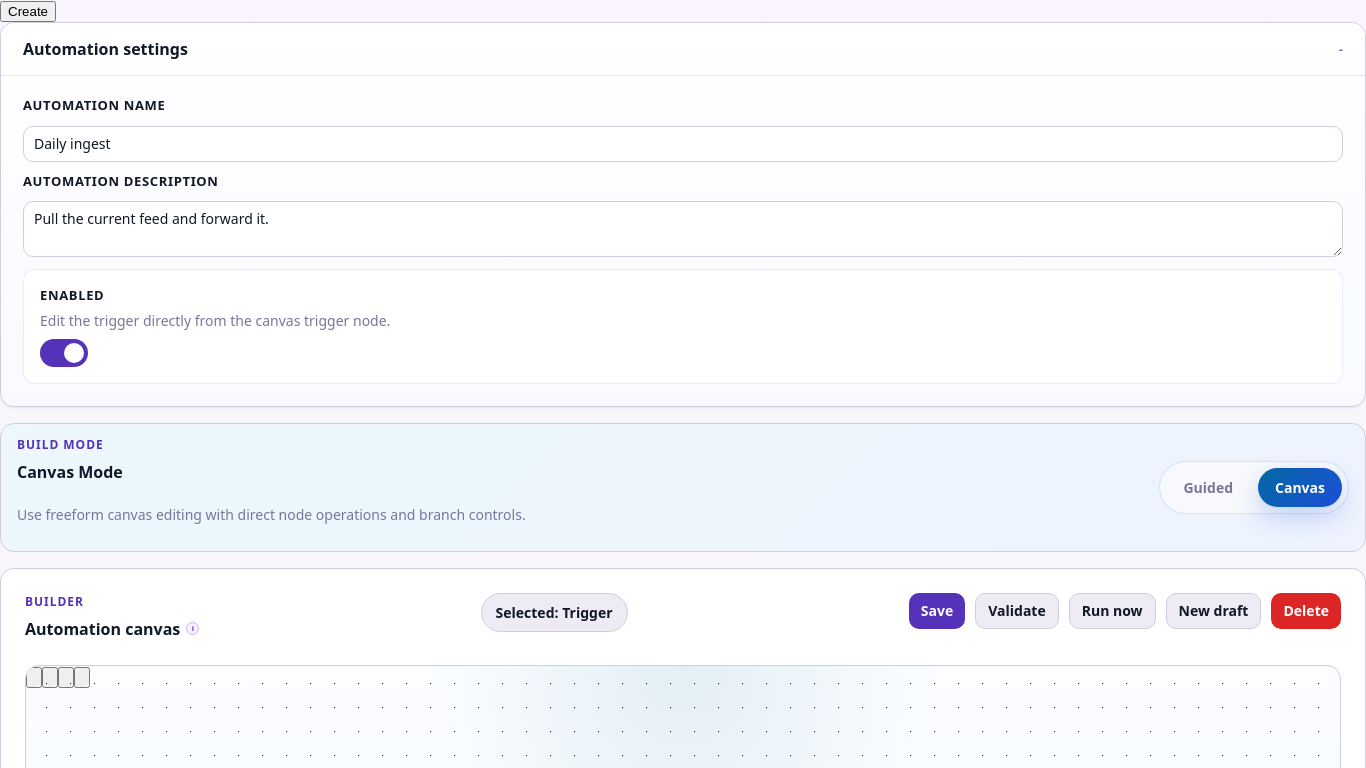
Test case: AutomationApp › collapses and expands the workflow settings bar
This screenshot has width=1366, height=768.
Expected: the field showing "Daily ingest" is shown, [23, 126, 1343, 162]
Expected: the text with id "automations-workflow-bar-collapse-symbol" reads "-", [1339, 40, 1343, 58]
Click the button with id "automations-workflow-bar-collapse-toggle".
click(105, 49)  # box [1, 23, 1365, 76]
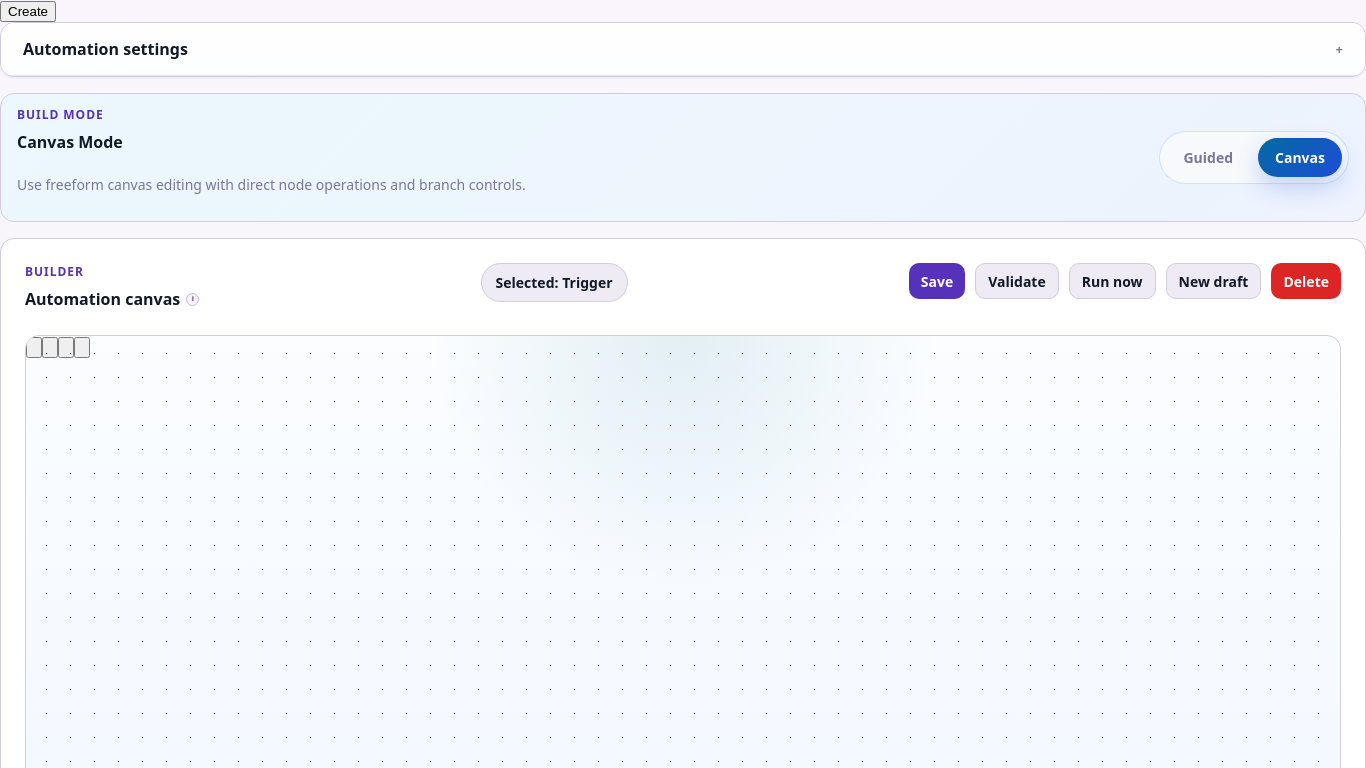
Expected: the text with id "automations-workflow-bar-collapse-symbol" reads "+", [1336, 40, 1343, 58]
Click the button with id "automations-workflow-bar-collapse-toggle".
click(105, 49)  # box [1, 23, 1365, 76]
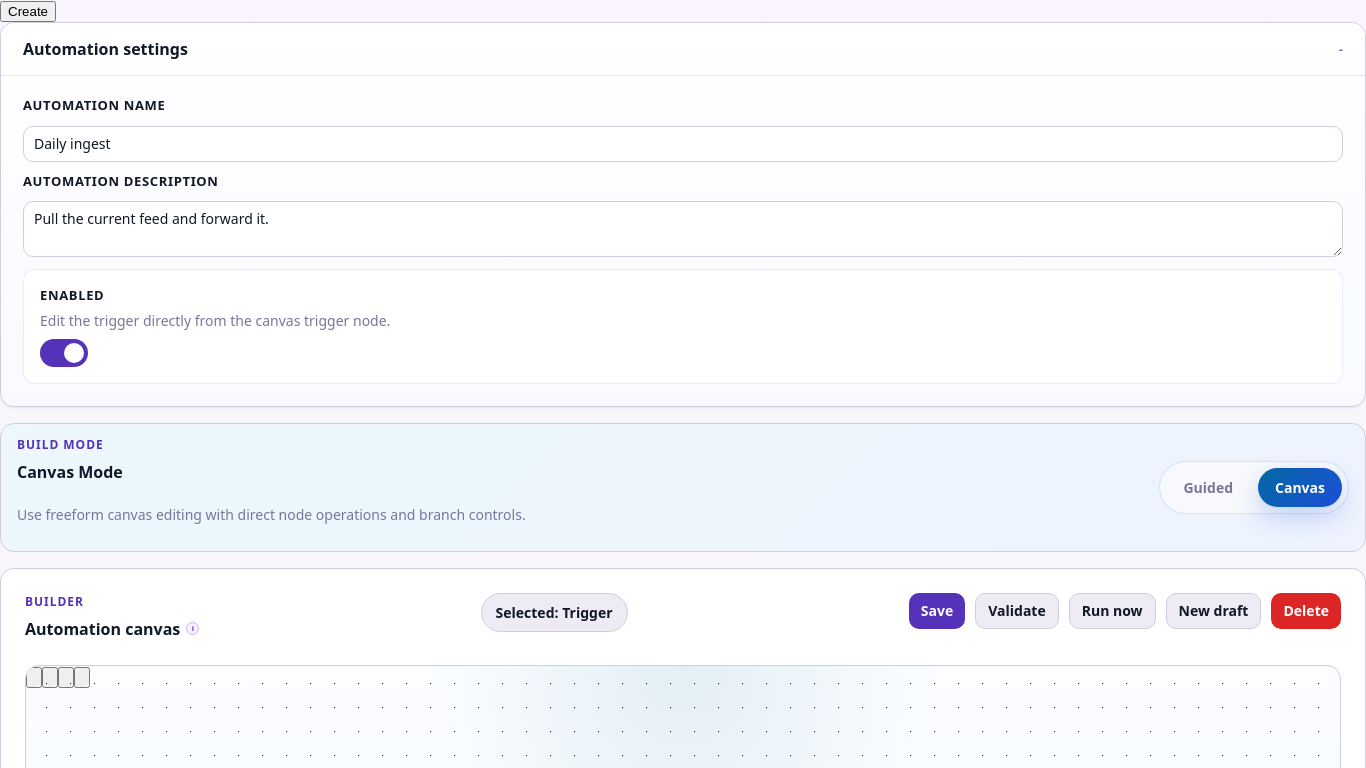
Expected: the text with id "automations-workflow-bar-collapse-symbol" reads "-", [1339, 40, 1343, 58]
